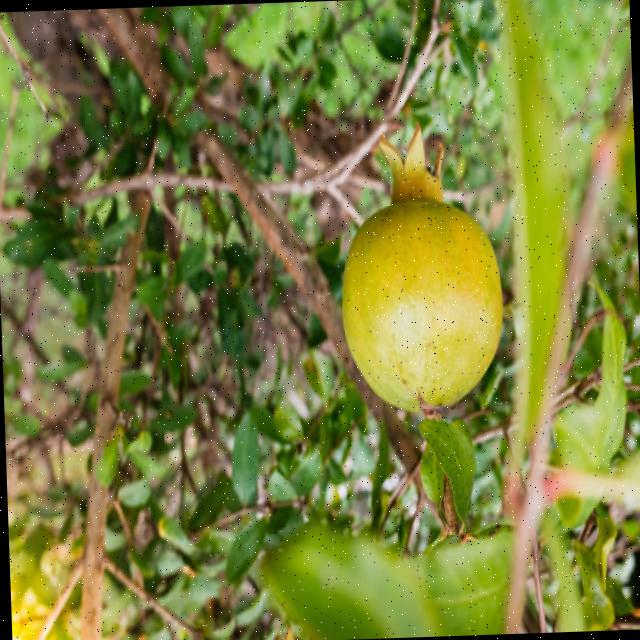Unripe: (334, 126, 506, 420)
